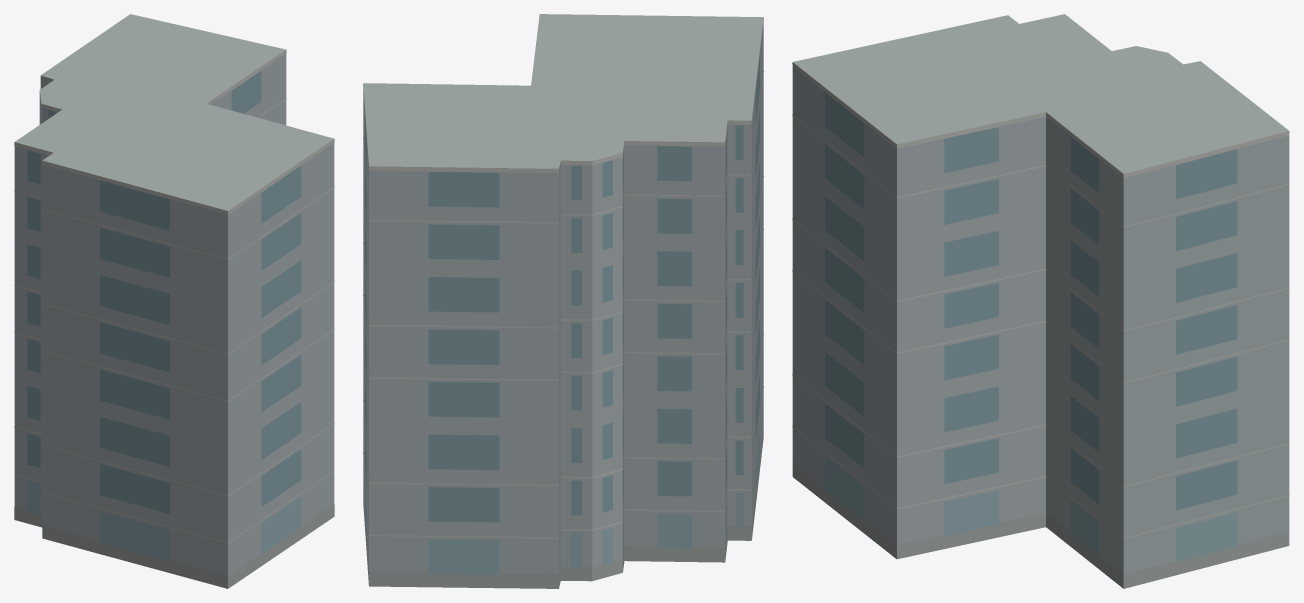
Rendered from survey-upis-32802086.glb.
The picture shows the model from 3 angles, left to right: view 1: azimuth 30°, elevation 25°; view 2: azimuth 150°, elevation 25°; view 3: azimuth 270°, elevation 25°; orthographic projection. The views are drawn at different scales.
Parts seen in each view (by area): view 1: survey-upis-32802086.tmp; view 2: survey-upis-32802086.tmp; view 3: survey-upis-32802086.tmp.
Part boxes in pixels (left/top/right/bottom): survey-upis-32802086.tmp: left=14, top=14, right=334, bottom=588; survey-upis-32802086.tmp: left=363, top=14, right=763, bottom=588; survey-upis-32802086.tmp: left=792, top=14, right=1289, bottom=588.
Bounding box in the file's own units: 19.29 × 23.3 × 25.31.
